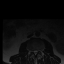CCS_normal: (34, 48, 36, 57)
LFS_stenosis: (38, 47, 40, 53)
LLS_normal: (36, 48, 38, 54)
RFS_stenosis: (31, 48, 32, 54)
RLS_normal: (32, 48, 34, 54)
